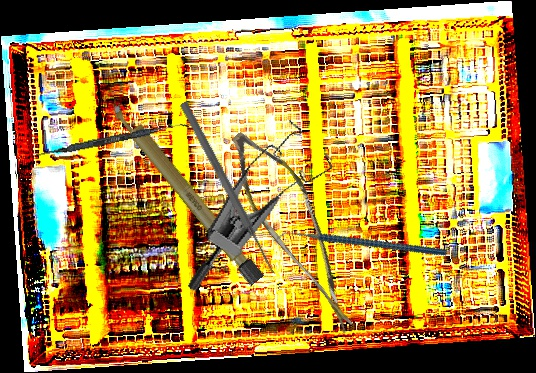Chopper: (271, 179, 448, 313)
Micro Scissor: (199, 122, 398, 336)
Pusher: (177, 100, 279, 276)
Scalpel Handle: (107, 97, 265, 287)
Spatula Surgical: (35, 117, 190, 162)
Speculum: (184, 105, 344, 323)
